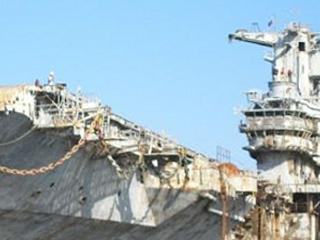rust: (212, 163, 248, 240), (67, 118, 108, 153), (255, 207, 292, 240), (3, 163, 79, 178)
